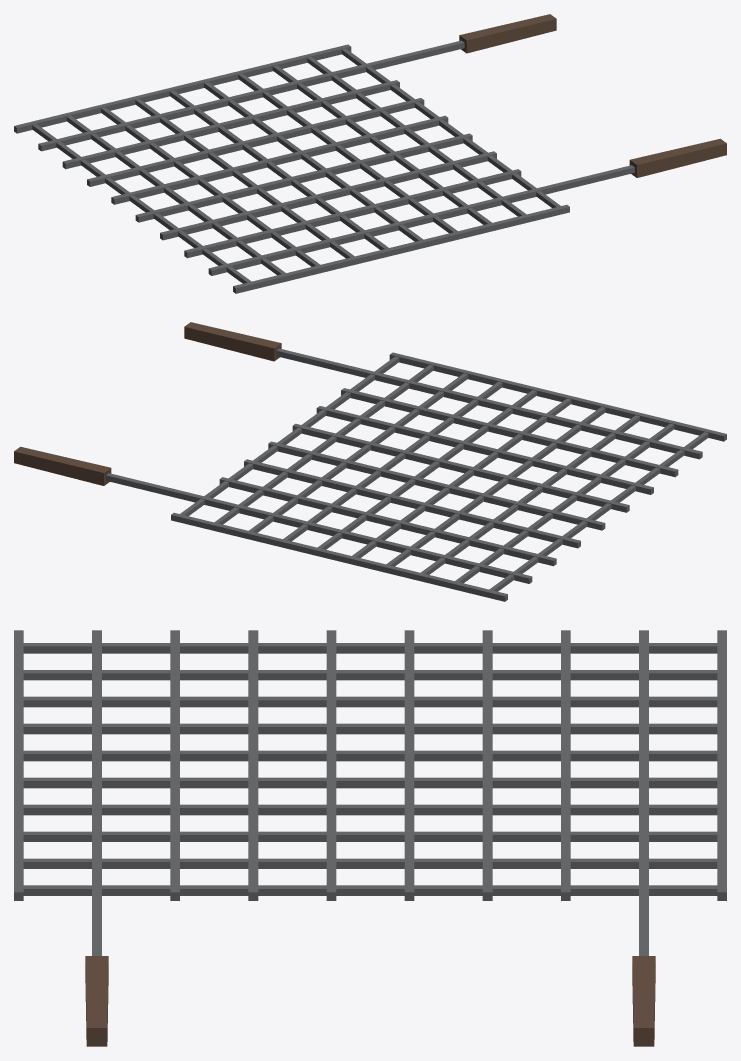
The model's file is gridGrill.fbx.
The picture shows the model from 3 angles, top to bottom: view 1: azimuth 30°, elevation 25°; view 2: azimuth 150°, elevation 25°; view 3: azimuth 270°, elevation 25°; orthographic projection. The views are drawn at different scales.
Parts seen in each view (by area): view 1: gridGrill; view 2: gridGrill; view 3: gridGrill.
Part boxes in pixels (bbox=[...]): gridGrill: bbox=[14, 14, 726, 293]; gridGrill: bbox=[14, 322, 726, 601]; gridGrill: bbox=[14, 630, 726, 1046].
Size of the model in its own units: 85.07 by 2.08 by 63.67.
Materials: 1 (1 with a texture image).
